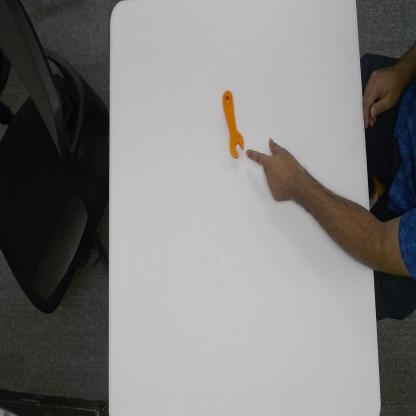Arm: (298, 160, 370, 273)
Hand: (247, 135, 299, 209)
Screwdriver: (222, 86, 245, 160)
